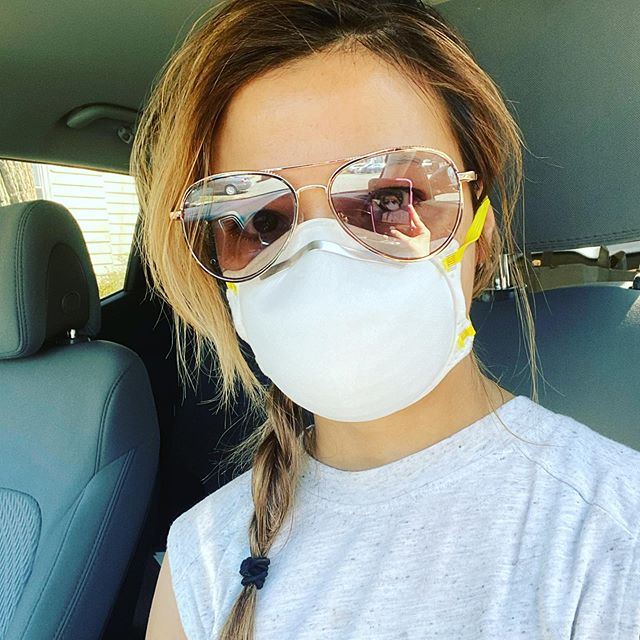n95: (212, 223, 485, 426)
